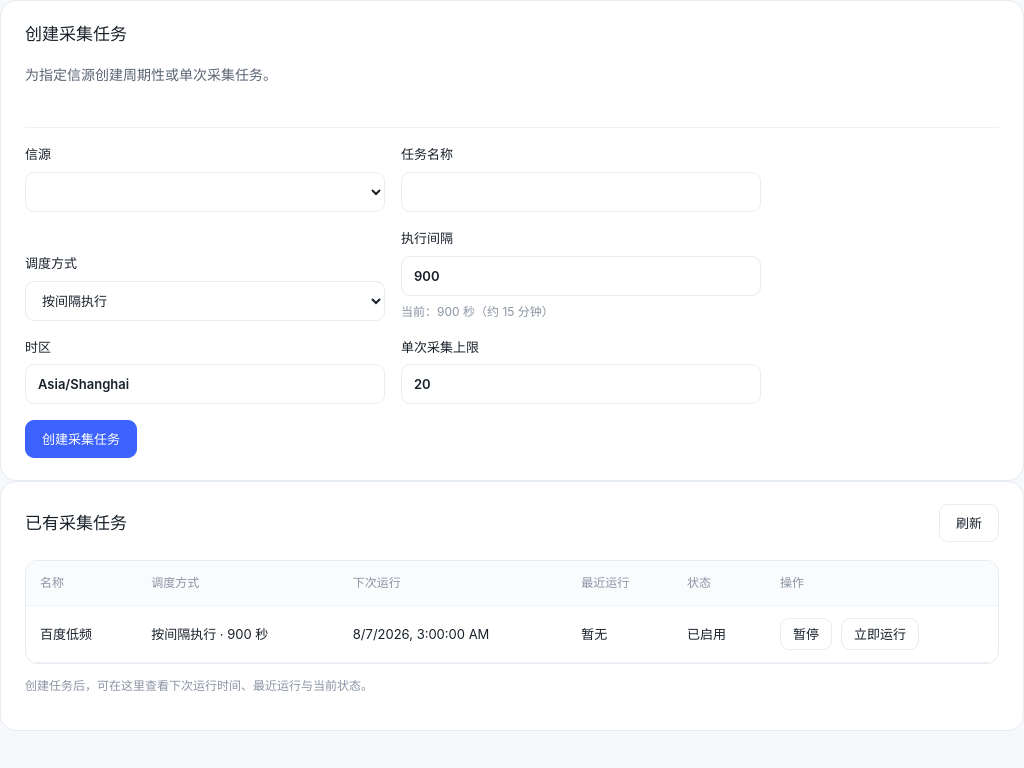
surfaces a schedule action failure instead of leaving the user without feedback
The image size is (1024, 768).
Click the button "暂停".
click(806, 634)  # box [780,618,832,650]
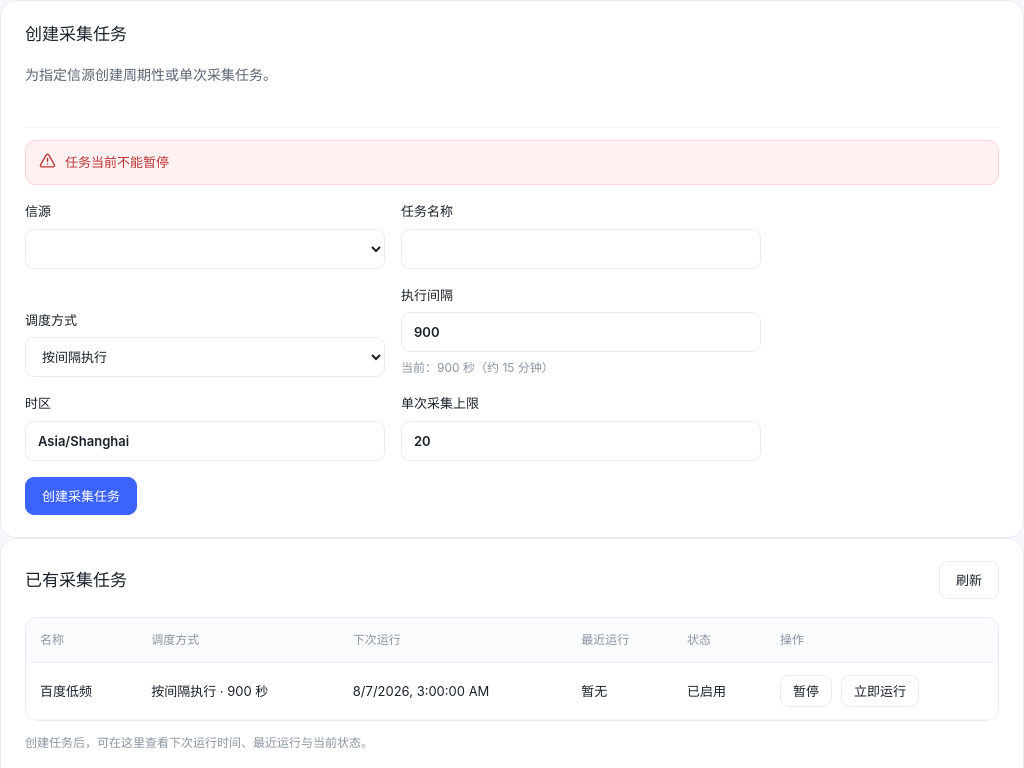
Check: the message reads "任务当前不能暂停", box [65,154,169,170]
